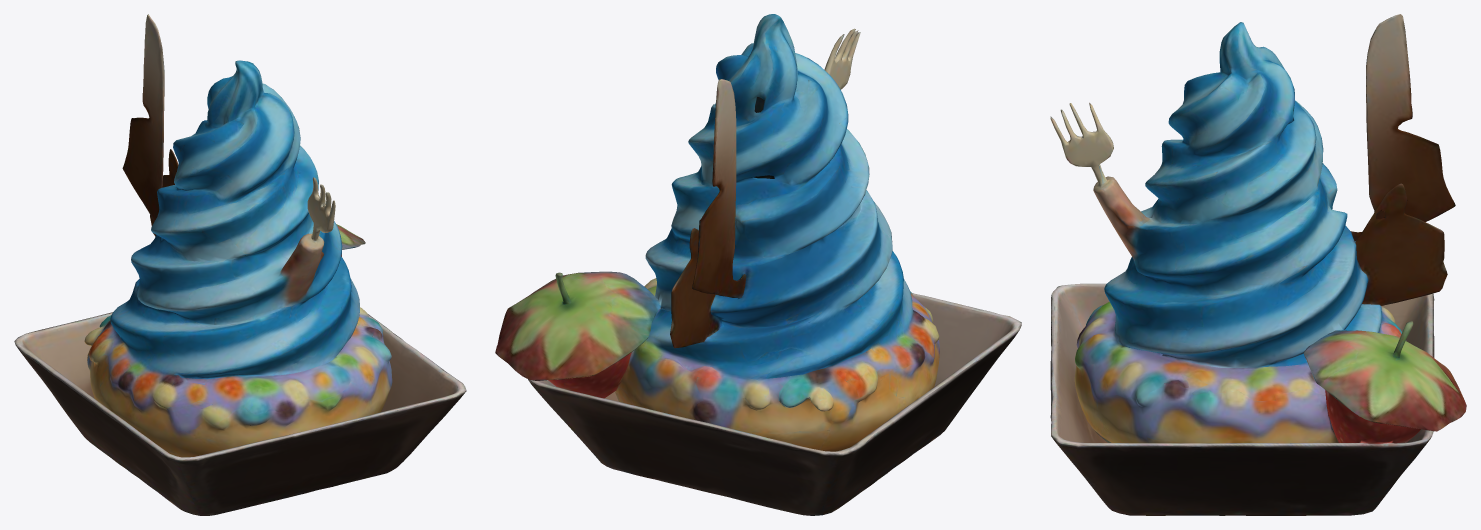
The model's file is ice_cream.glb.
3 views of the same model, side by side, from view 1: azimuth 30°, elevation 25°; view 2: azimuth 150°, elevation 25°; view 3: azimuth 270°, elevation 25° (orthographic). The views are drawn at different scales.
Visible parts, largest first — view 1: geometry_0; view 2: geometry_0; view 3: geometry_0.
Part boxes in pixels (x1,y1,x2,y2): geometry_0: [14, 14, 466, 515]; geometry_0: [495, 14, 1021, 515]; geometry_0: [1050, 14, 1466, 515].
Size of the model in its own units: 0.891 by 1 by 0.8693.
1 material, 1 textured.
